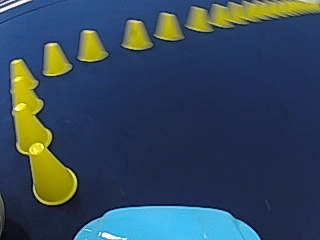cone: (25, 144, 76, 204), (11, 104, 52, 152), (7, 58, 42, 114), (40, 41, 72, 76), (76, 28, 108, 62), (120, 19, 152, 50), (153, 12, 184, 41), (185, 6, 212, 32), (208, 3, 230, 27), (29, 142, 44, 155)
